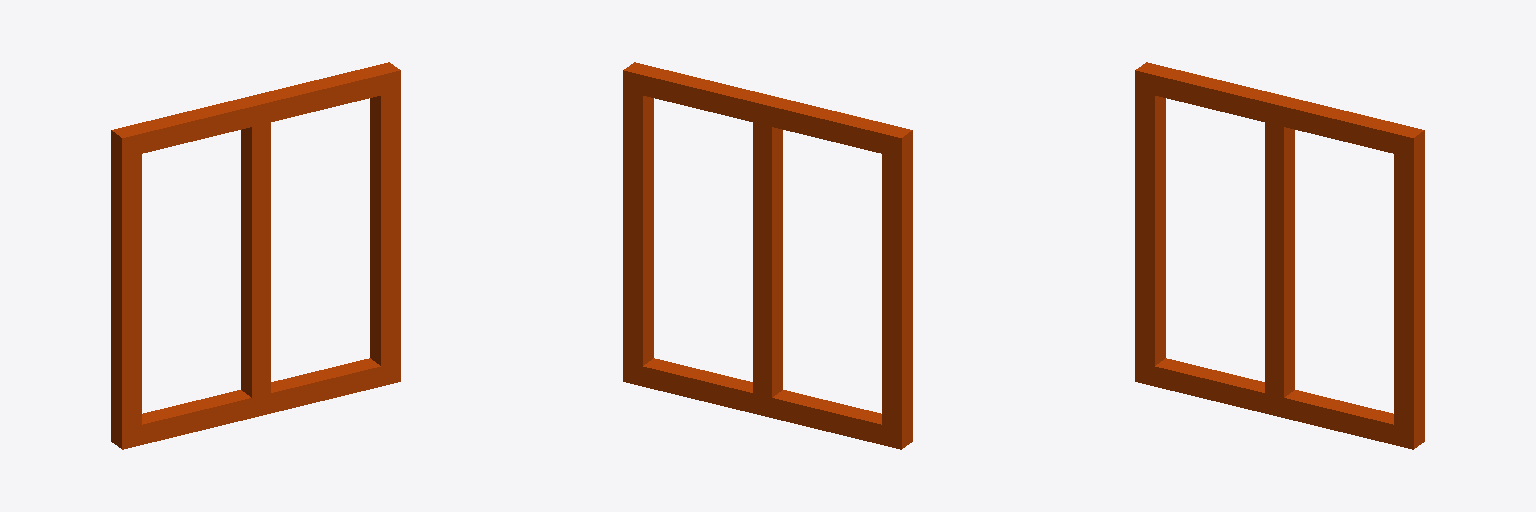
File: window.obj
The picture shows the model from 3 angles: view 1: azimuth 30°, elevation 25°; view 2: azimuth 150°, elevation 25°; view 3: azimuth 330°, elevation 25°; orthographic projection.
Parts seen in each view (by area): view 1: window_Plane; view 2: window_Plane; view 3: window_Plane.
Boxes of the visible parts, box(x1,y1,x2,y2) form: window_Plane: box(111, 62, 400, 449); window_Plane: box(623, 62, 912, 449); window_Plane: box(1135, 62, 1424, 449).
Bounding box in the file's own units: 0.43 × 0.46 × 0.03.